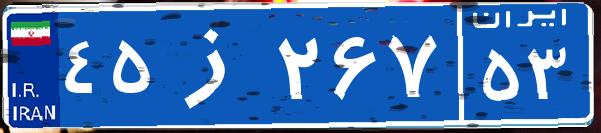2: (273, 28, 330, 110)
3: (525, 38, 570, 115)
4: (57, 26, 110, 107)
5: (475, 38, 525, 113), (110, 28, 158, 105)
6: (330, 28, 385, 110)
7: (385, 28, 445, 110)
ز: (158, 15, 273, 115)
